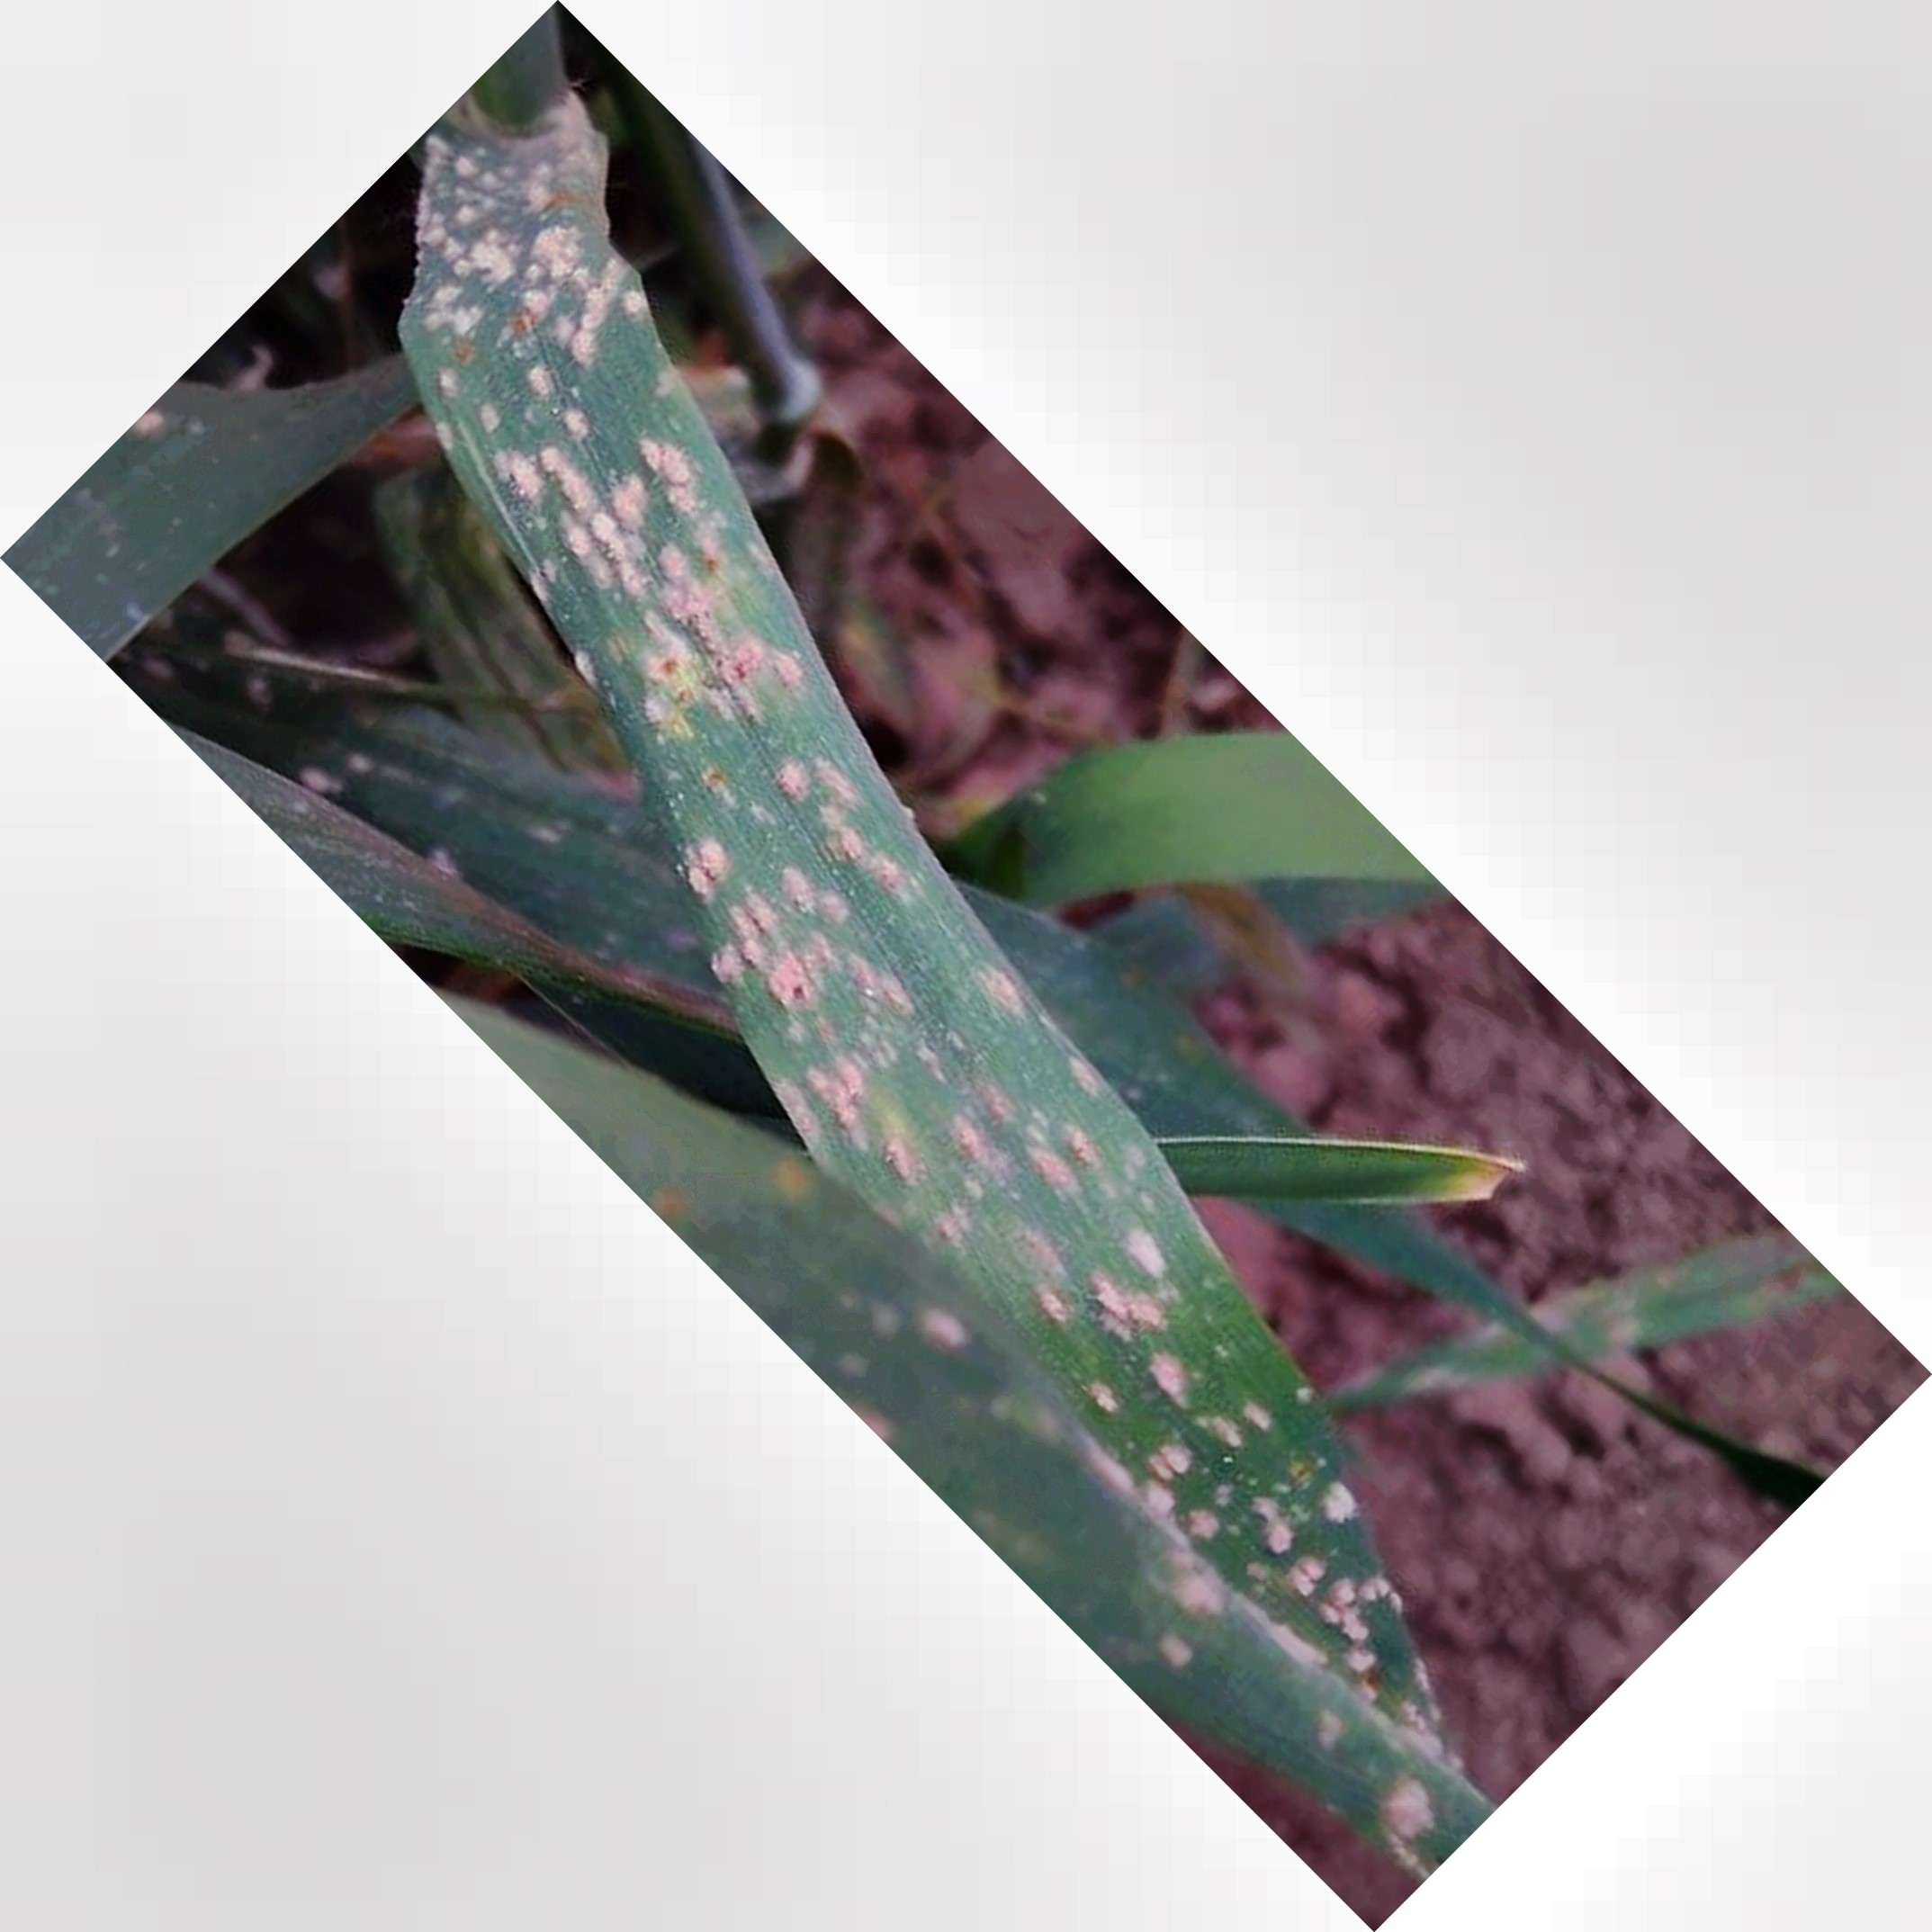Powdery Mildew: (464, 255, 1350, 1580)
